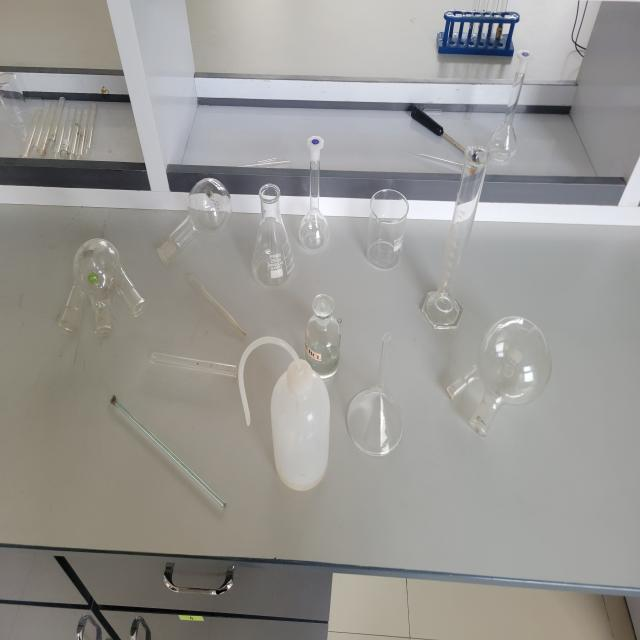Beaker: (360, 183, 421, 286)
Conical_Flask: (248, 176, 308, 295)
Funnel: (335, 308, 417, 474)
Glass_Rod: (93, 378, 243, 524)
Measuring_Cylinder: (411, 134, 502, 354)
Pipette: (178, 264, 253, 345)
Round_Bottom_Flask_Borosilicate_Glass_1_Neck: (144, 162, 251, 286)
Round_Bottom_Flask_Borosilicate_Glass_2_Neck: (432, 279, 571, 471)
Round_Bottom_Flask_Borosilicate_Glass_3_Neck: (47, 228, 157, 375)
Test_Tube: (136, 341, 242, 393)
Volumetric_Flask: (267, 126, 342, 264)
